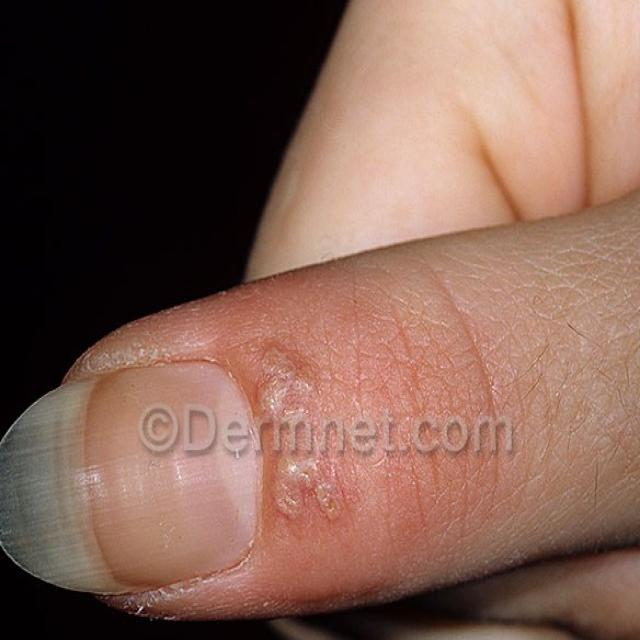Viral Infections: (242, 356, 363, 527)
